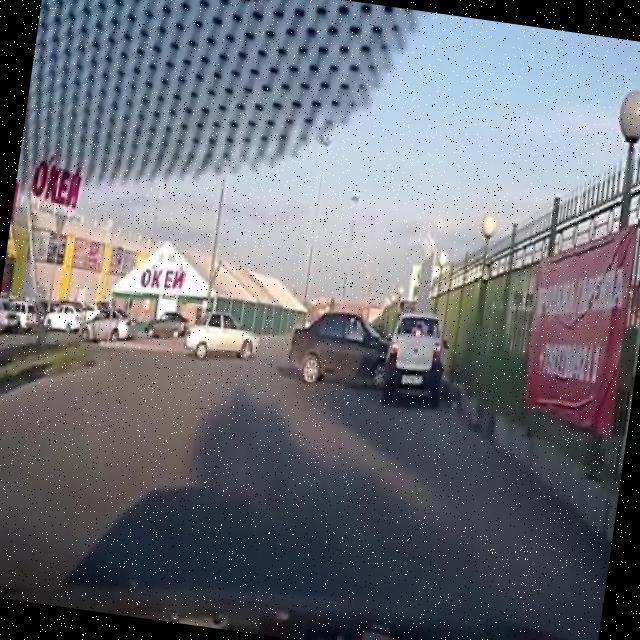accident: (277, 298, 465, 415)
